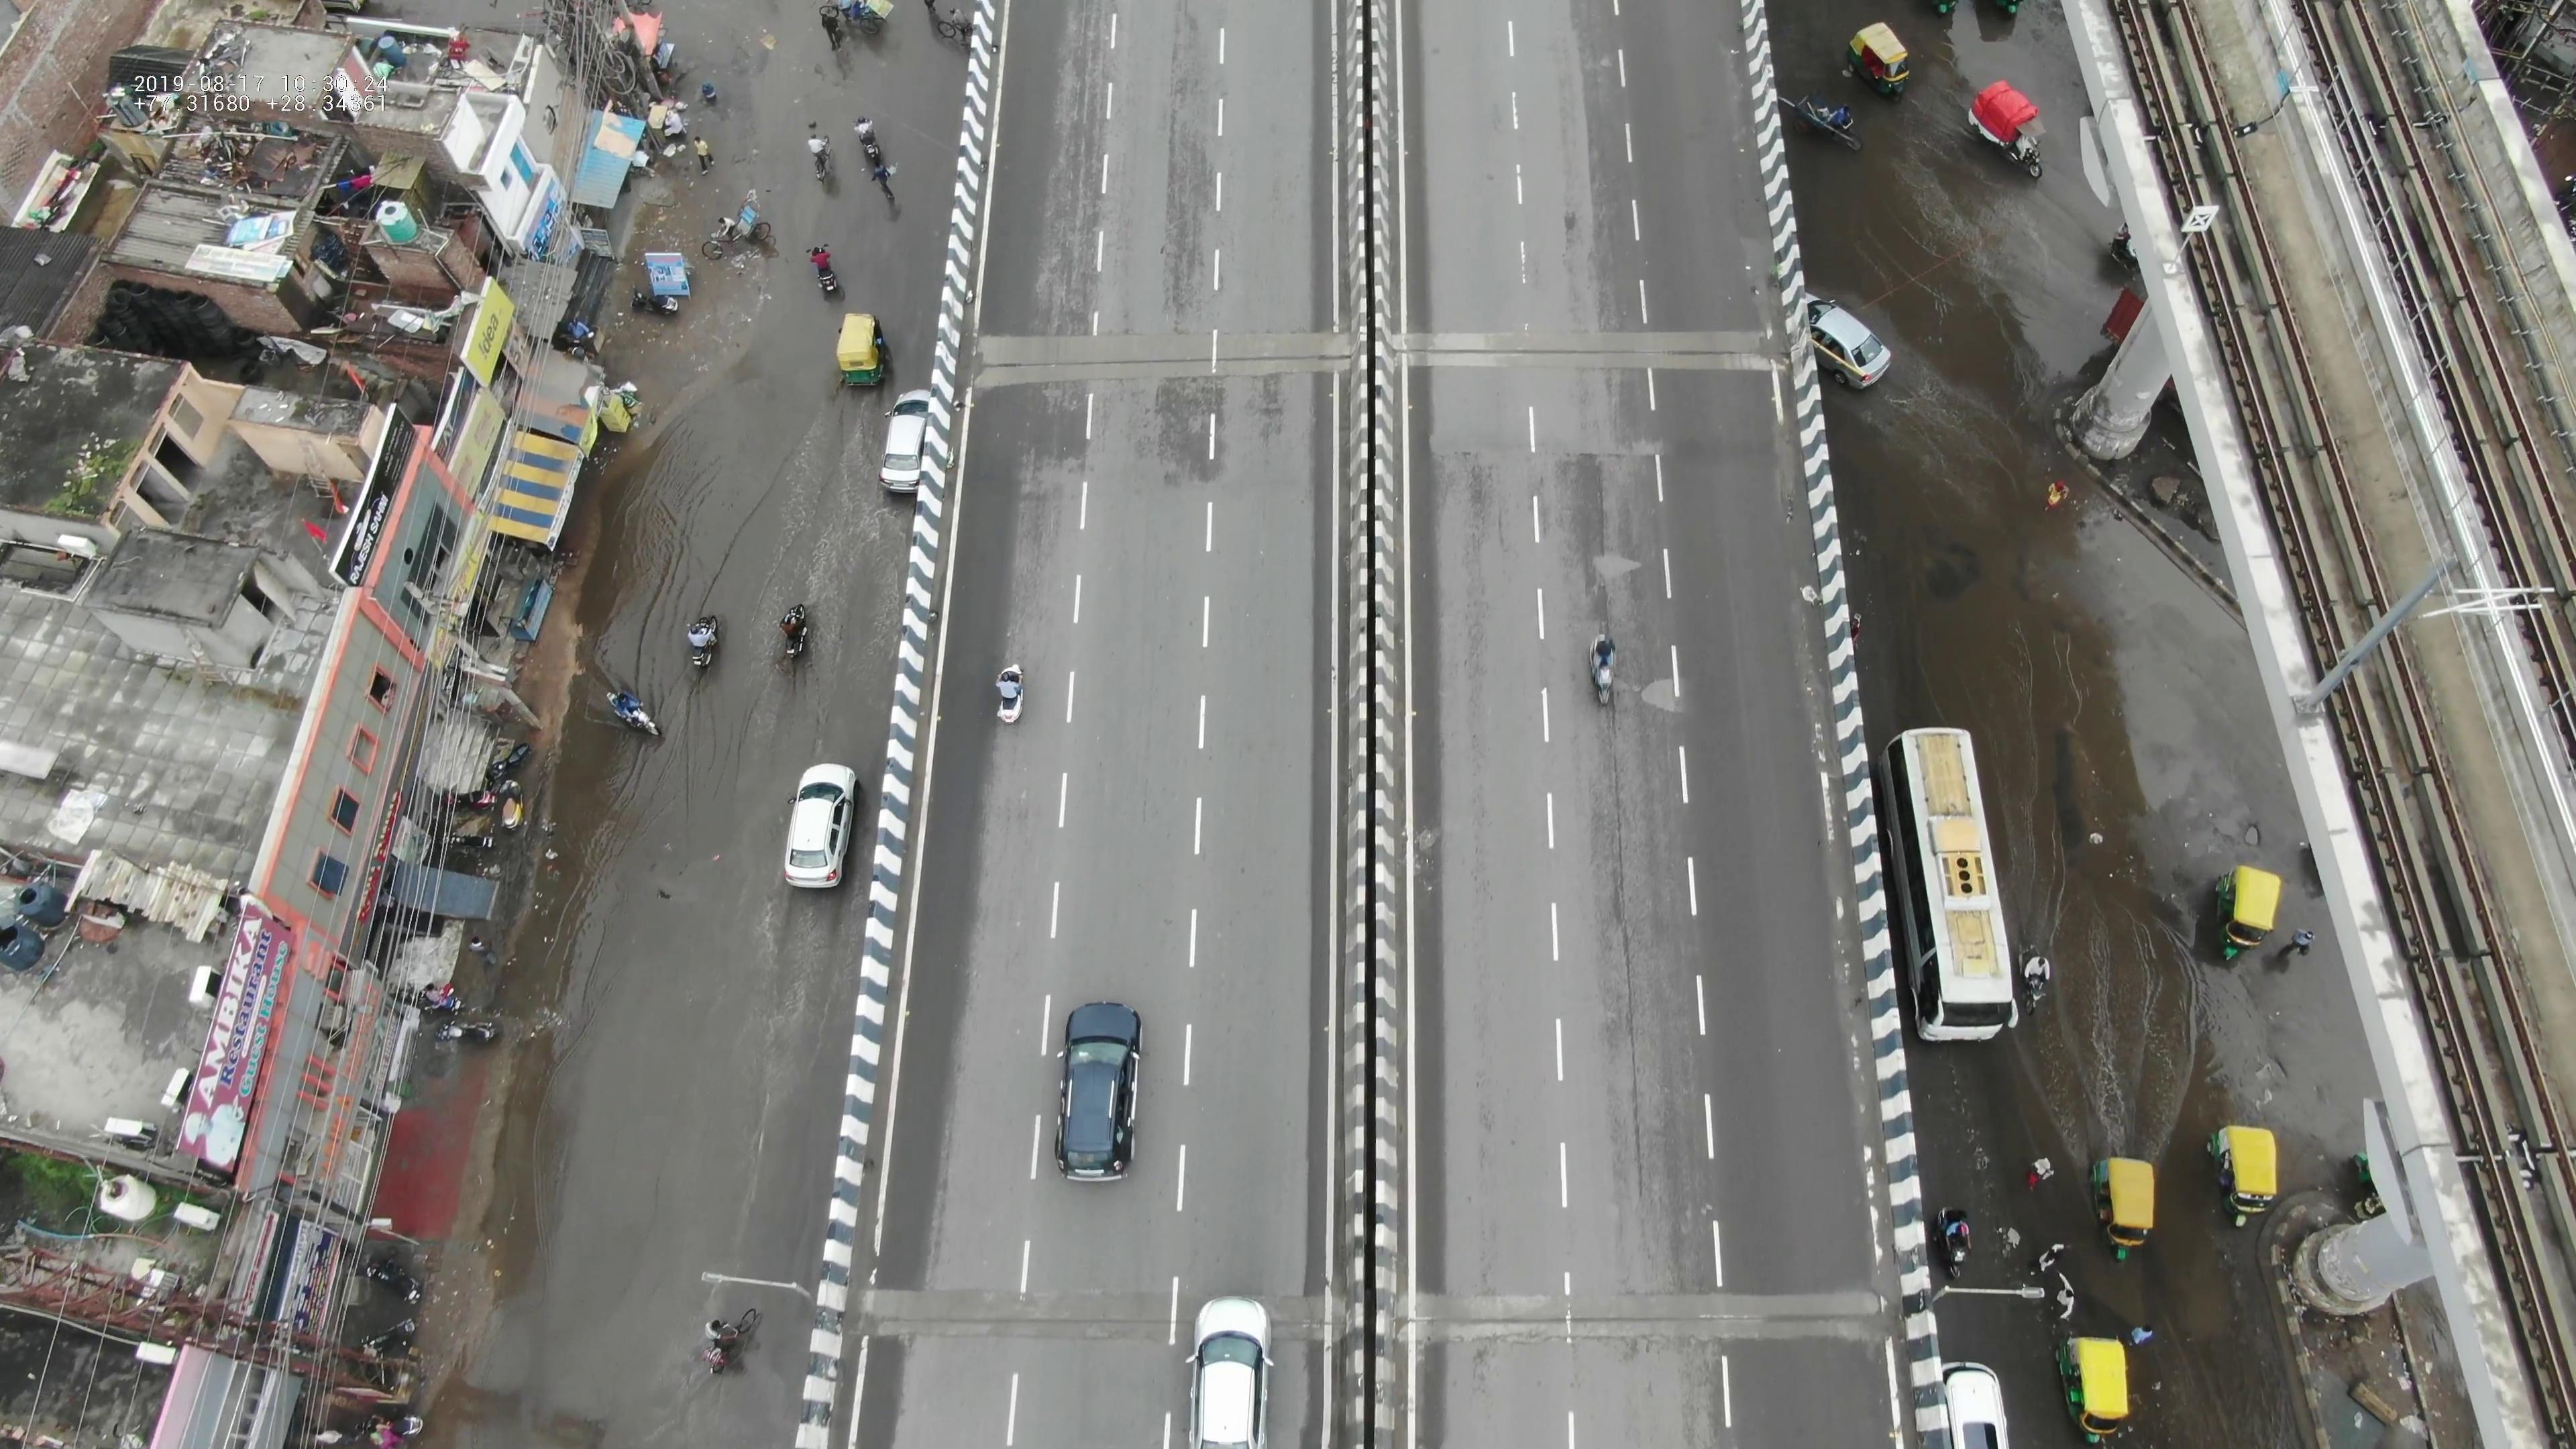Hair_cracks: (1598, 794, 1658, 1005), (1615, 1005, 1670, 1226), (1573, 479, 1633, 566)
Potholes: (1576, 533, 1683, 600), (1635, 665, 1713, 741)
Ravelling: (1138, 4, 1228, 292)
Waterlogging: (455, 837, 835, 1410), (499, 228, 874, 807), (1792, 62, 2169, 625), (2026, 685, 2247, 1185)
